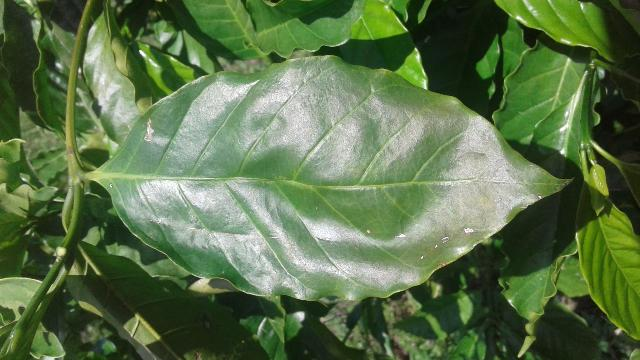healthy: (93, 48, 587, 303)
